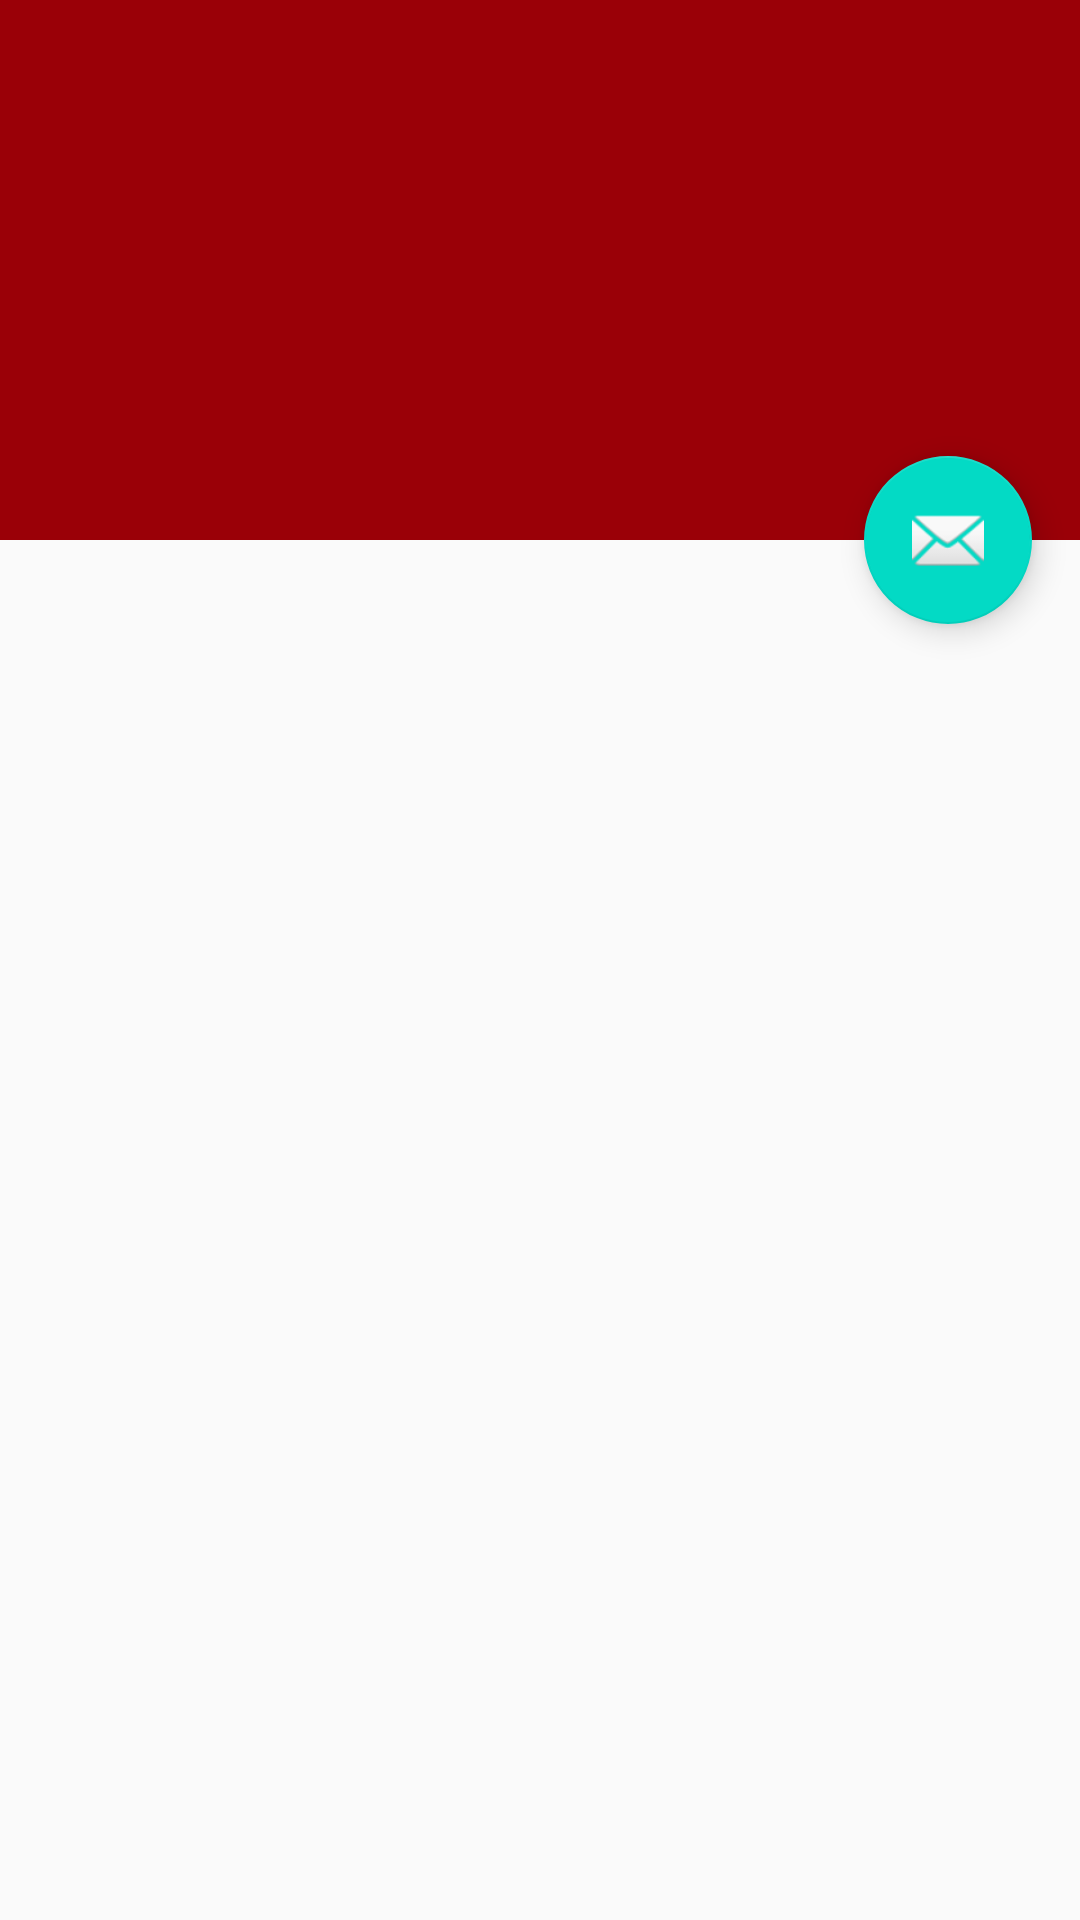

Screen size 1080×1920. Icon name, then its center in pixels as [x,y]:
email: [948,540]
